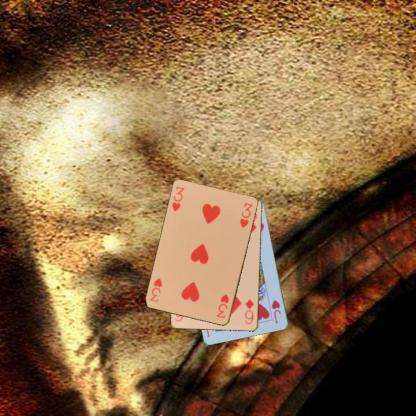3h: (170, 184, 186, 213), (214, 292, 230, 319)
6d: (243, 297, 254, 325)
Jh: (269, 297, 282, 325)
